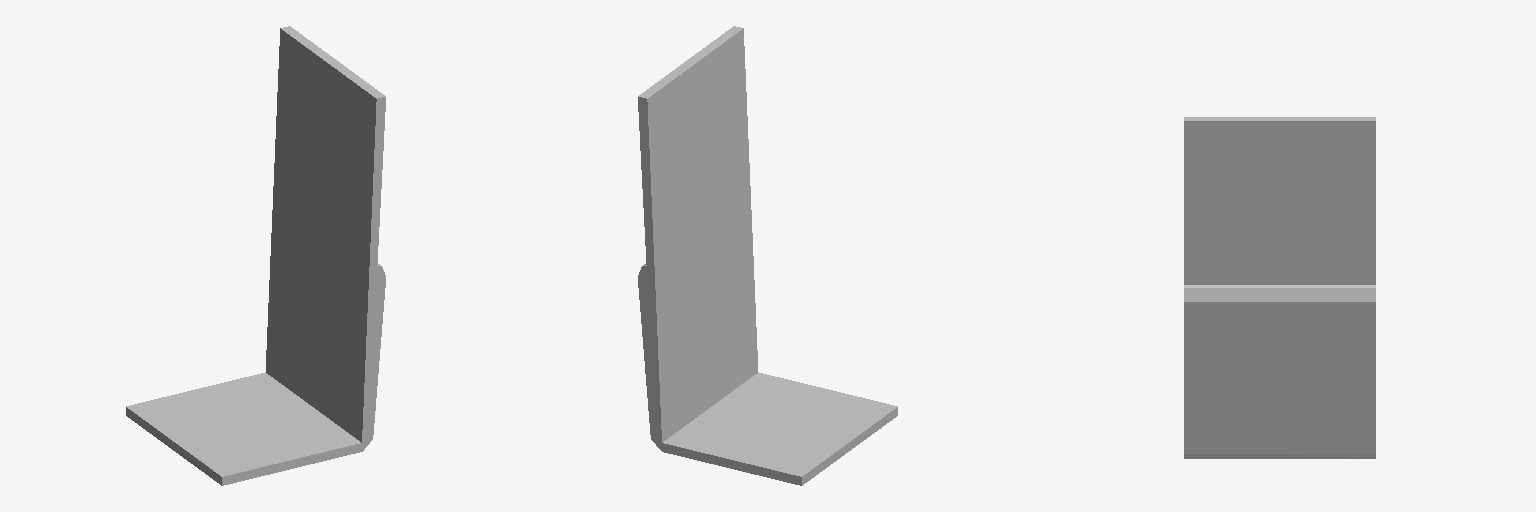
File: base_building_right_edge_tile.obj
3 views of the same model, side by side, from view 1: azimuth 30°, elevation 25°; view 2: azimuth 150°, elevation 25°; view 3: azimuth 270°, elevation 25° (orthographic).
Parts seen in each view (by area): view 1: right_edge_Cube.008; view 2: right_edge_Cube.008; view 3: right_edge_Cube.008.
Part boxes in pixels (left/top/right/bottom): right_edge_Cube.008: left=126, top=26, right=385, bottom=485; right_edge_Cube.008: left=638, top=26, right=897, bottom=485; right_edge_Cube.008: left=1184, top=117, right=1375, bottom=458.
Bounding box in the file's own units: 1.97 × 4 × 2.